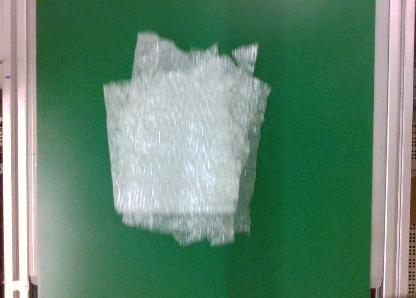Others: (102, 28, 270, 247)
